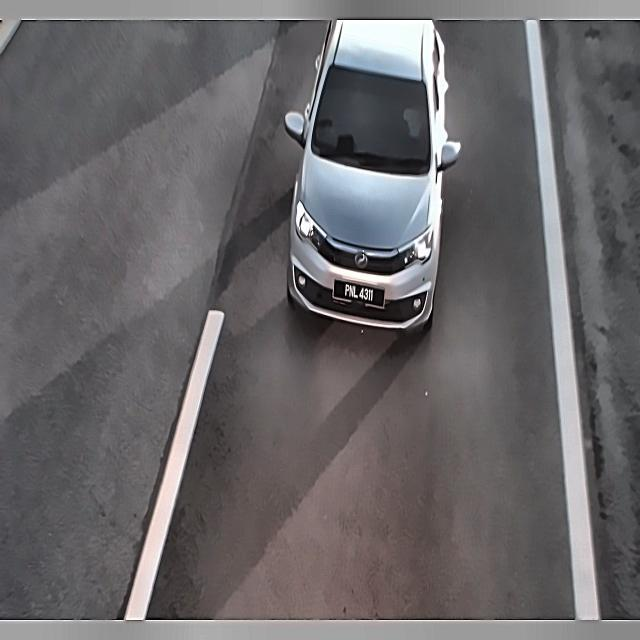car: (330, 269, 388, 312)
